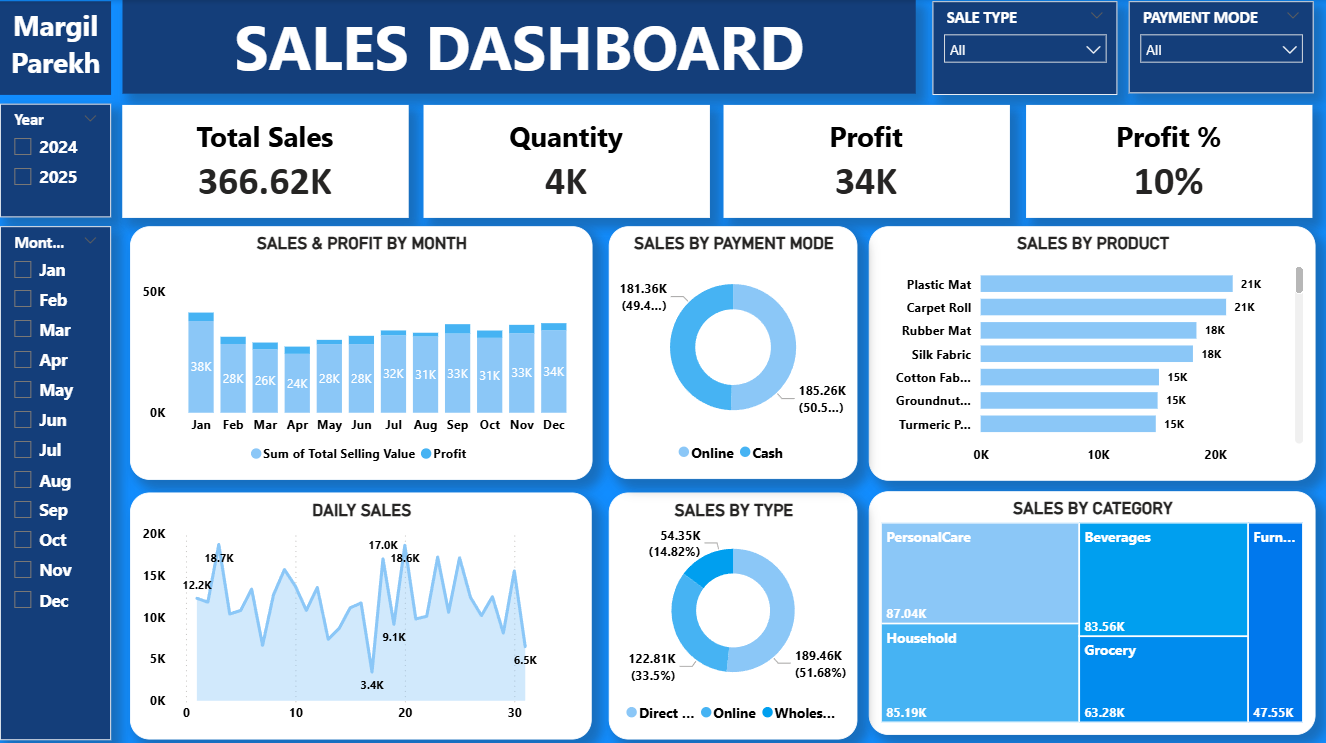

Layout of this report page (visuals, bound fields, positions):
{"tool":"powerbi","page":{"name":"Page 1","canvas":[1280,720],"ordinal":0},"visuals":[{"type":"textbox","box":[118.6,0,765.7,90],"z":0},{"type":"slicer","fields":{"Values":["InputData.Year"]},"box":[0,100.4,107,109.8],"z":1000},{"type":"slicer","fields":{"Values":["InputData.Month Name"]},"box":[0,218.6,107.1,495.7],"z":2000},{"type":"slicer","fields":{"Values":["InputData.SALE TYPE"]},"box":[900,1.4,178.6,90],"z":3000},{"type":"slicer","fields":{"Values":["InputData.PAYMENT MODE"]},"box":[1090,1.4,178.6,88.6],"z":4000},{"type":"textbox","box":[0,1.4,107.1,90],"z":5000},{"type":"cardVisual","fields":{"Data":["Sum(InputData.Total Selling Value)"]},"box":[118.6,101.4,275.7,108.6],"z":6000},{"type":"cardVisual","fields":{"Data":["Sum(InputData.QUANTITY)"]},"box":[408.6,101.4,275.7,108.6],"z":6001},{"type":"cardVisual","fields":{"Data":["InputData.Profit"]},"box":[698.6,101.4,275.7,108.6],"z":6002},{"type":"cardVisual","fields":{"Data":["InputData.Profit %"]},"box":[990,101.4,275.7,108.6],"z":6003},{"type":"columnChart","title":"SALES & PROFIT BY MONTH","fields":{"Y":["Sum(InputData.Total Selling Value)","InputData.Profit"],"Category":["InputData.Month Name"]},"box":[125,218,446,245],"z":6004},{"type":"areaChart","title":"DAILY SALES","fields":{"Category":["InputData.Day"],"Y":["Sum(InputData.Total Selling Value)"]},"box":[125.7,475.7,445.7,238],"z":6005},{"type":"clusteredBarChart","title":"SALES BY PRODUCT","fields":{"Y":["Sum(InputData.Total Selling Value)"],"Category":["InputData.MasterData.PRODUCT"]},"box":[838.6,218.6,431.4,245.7],"z":6006},{"type":"treemap","title":"SALES BY CATEGORY","fields":{"Values":["Sum(InputData.Total Selling Value)"],"Group":["InputData.MasterData.CATEGORY"]},"box":[839,474,431,235],"z":6007},{"type":"donutChart","title":"SALES BY TYPE","fields":{"Y":["Sum(InputData.Total Selling Value)"],"Category":["InputData.SALE TYPE"]},"box":[587.1,475.7,240,238.6],"z":6008},{"type":"donutChart","title":"SALES BY PAYMENT MODE","fields":{"Y":["Sum(InputData.Total Selling Value)"],"Category":["InputData.PAYMENT MODE"]},"box":[587.1,218.6,240,244.3],"z":6009}]}

Visuals, with their boxes in screenshot pixels (x1, y1, x2, y2), scaled from the page's 1280x720 canvas onto the 1326x743 screenshot:
textbox: rect(123, 0, 916, 93)
slicer - InputData.Year: rect(0, 104, 111, 217)
slicer - InputData.Month Name: rect(0, 226, 111, 737)
slicer - InputData.SALE TYPE: rect(932, 1, 1117, 94)
slicer - InputData.PAYMENT MODE: rect(1129, 1, 1314, 93)
textbox: rect(0, 1, 111, 94)
cardVisual - Sum(InputData.Total Selling Value): rect(123, 105, 408, 217)
cardVisual - Sum(InputData.QUANTITY): rect(423, 105, 709, 217)
cardVisual - InputData.Profit: rect(724, 105, 1009, 217)
cardVisual - InputData.Profit %: rect(1026, 105, 1311, 217)
"SALES & PROFIT BY MONTH" columnChart: rect(129, 225, 592, 478)
"DAILY SALES" areaChart: rect(130, 491, 592, 736)
"SALES BY PRODUCT" clusteredBarChart: rect(869, 226, 1316, 479)
"SALES BY CATEGORY" treemap: rect(869, 489, 1316, 732)
"SALES BY TYPE" donutChart: rect(608, 491, 857, 737)
"SALES BY PAYMENT MODE" donutChart: rect(608, 226, 857, 478)
